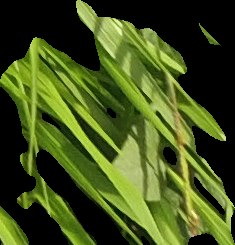grass: (1, 1, 234, 244)
